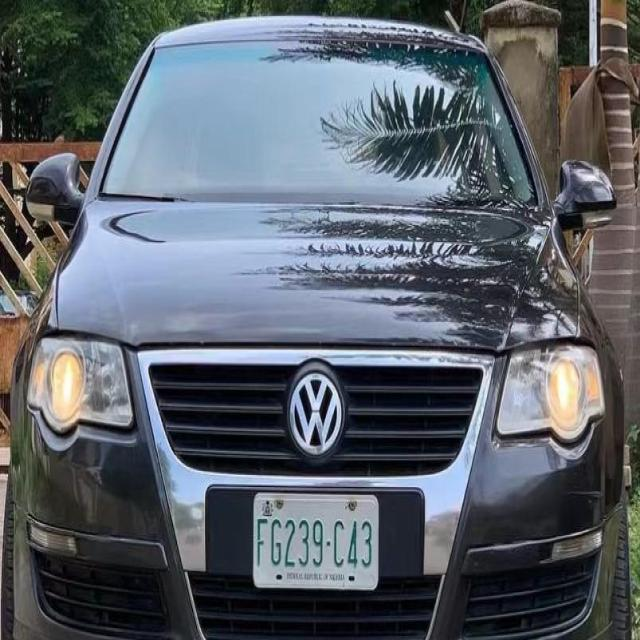Nigerian License Plate - vdataset benjamin-daria: (251, 490, 381, 596)
